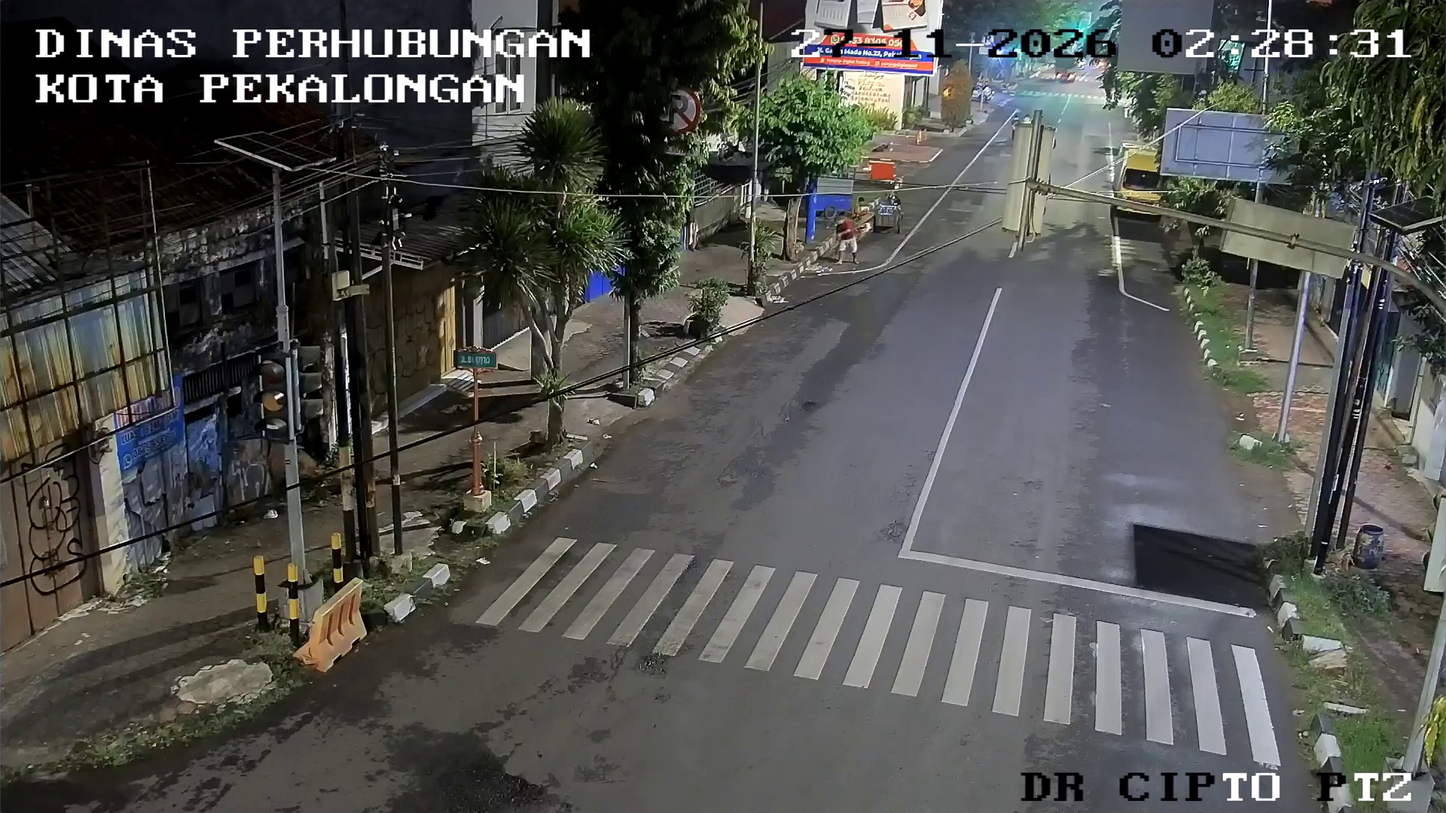Gerobak: (856, 189, 902, 235)
